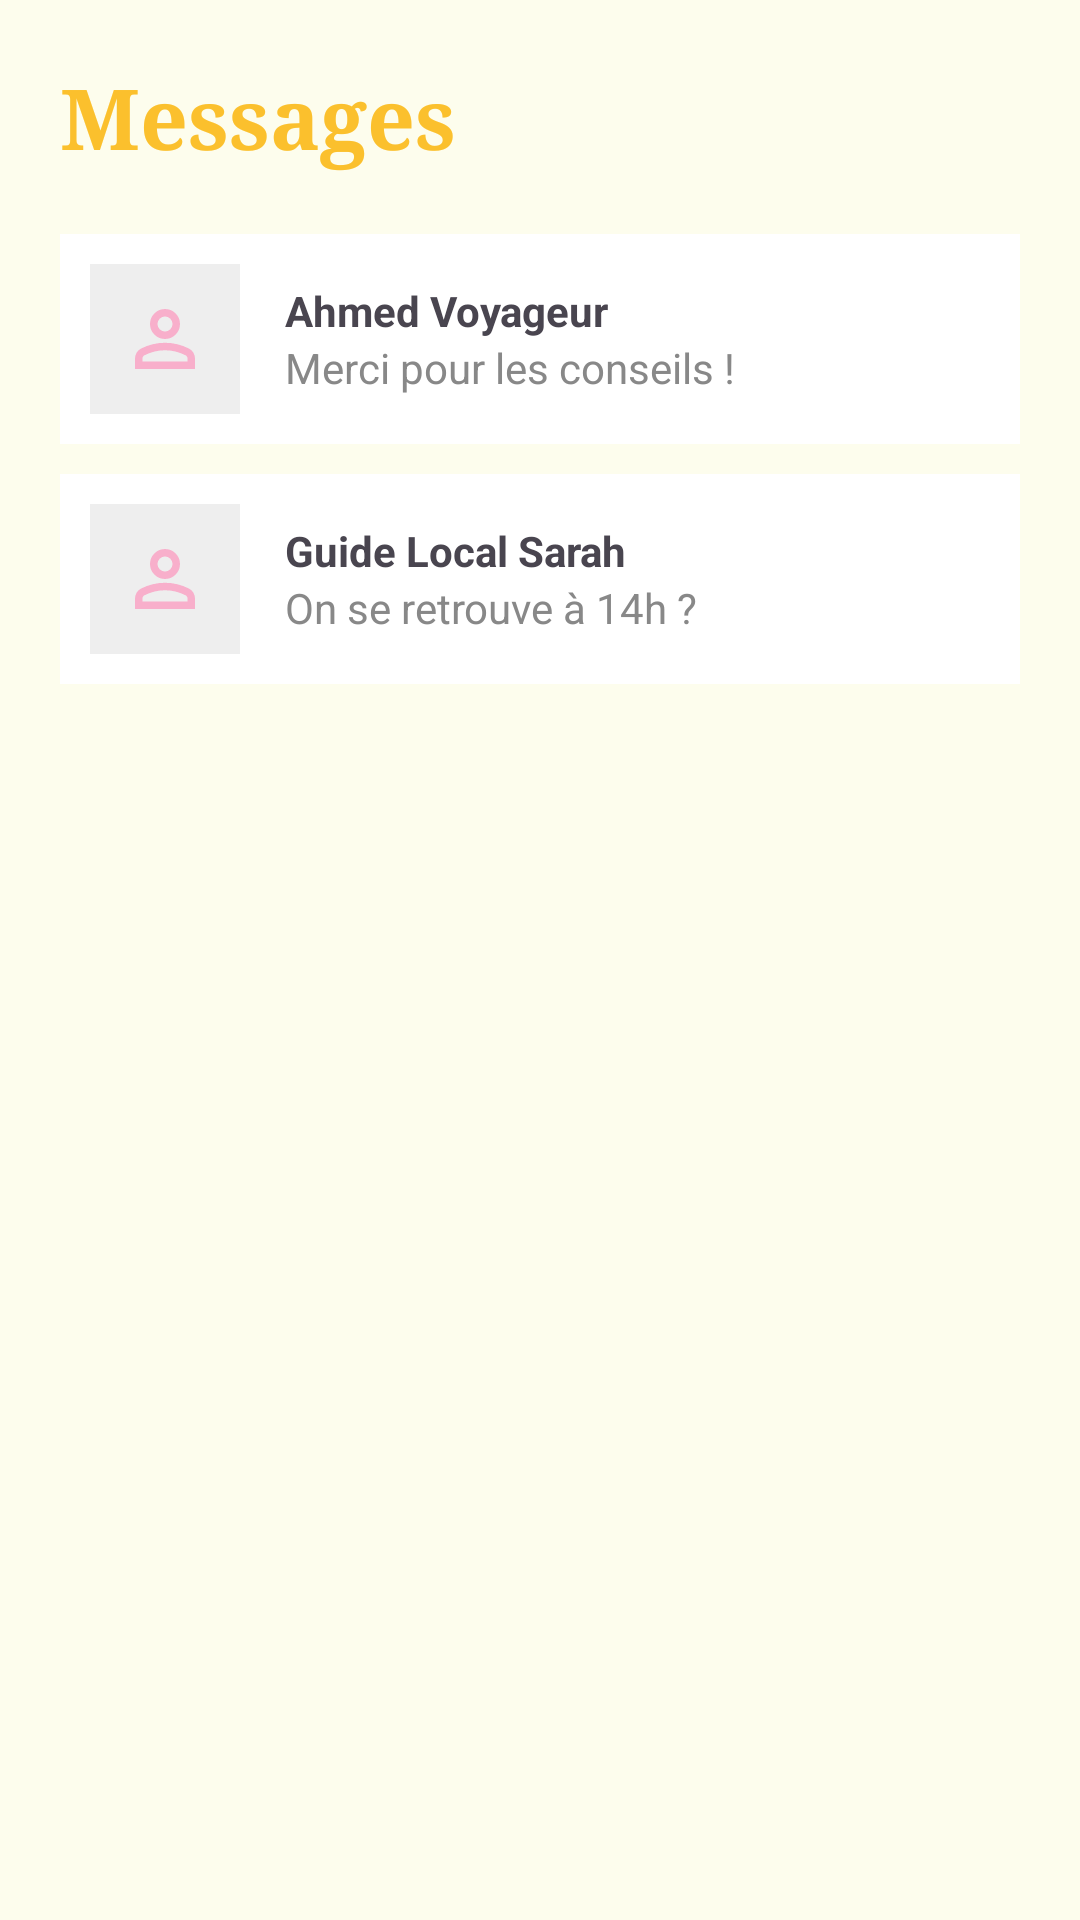

Icon bounding boxes for this 1080*1920 phone screenshot, format (x1, y1, x2, y2):
person: (90, 264, 240, 414), (90, 504, 240, 654)
